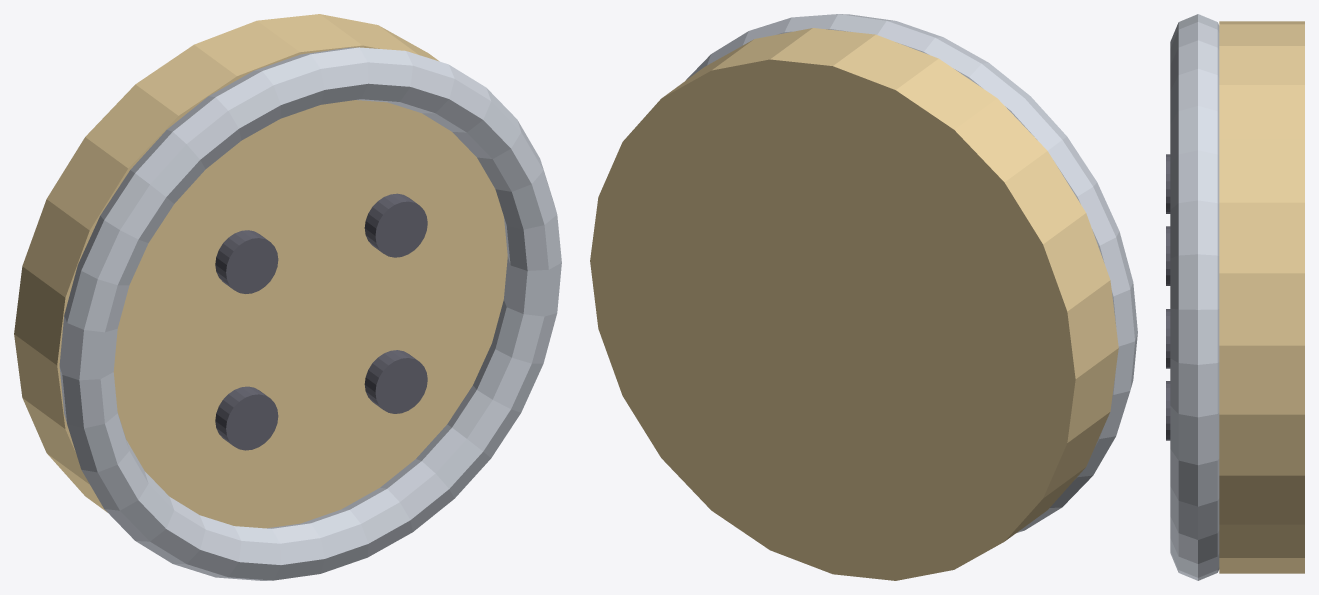
Rendered from ACC_Button_Gold.glb.
3 views of the same model, side by side, from view 1: azimuth 30°, elevation 25°; view 2: azimuth 150°, elevation 25°; view 3: azimuth 270°, elevation 25° (orthographic).
Parts seen in each view (by area): view 1: ACC_Button_Gold_1, ACC_Button_Gold_2, ACC_Button_Gold_6, ACC_Button_Gold_3, ACC_Button_Gold_4, ACC_Button_Gold_5; view 2: ACC_Button_Gold_1, ACC_Button_Gold_2; view 3: ACC_Button_Gold_1, ACC_Button_Gold_2, ACC_Button_Gold_3, ACC_Button_Gold_4, ACC_Button_Gold_5, ACC_Button_Gold_6.
Part boxes in pixels (x1,y1,x2,y2): ACC_Button_Gold_1: (14, 14, 507, 528); ACC_Button_Gold_2: (59, 47, 561, 580); ACC_Button_Gold_6: (364, 193, 427, 257); ACC_Button_Gold_3: (215, 386, 278, 450); ACC_Button_Gold_4: (215, 230, 278, 293); ACC_Button_Gold_5: (364, 350, 427, 413); ACC_Button_Gold_1: (590, 28, 1118, 580); ACC_Button_Gold_2: (685, 14, 1137, 532); ACC_Button_Gold_1: (1219, 21, 1304, 573); ACC_Button_Gold_2: (1170, 14, 1219, 580); ACC_Button_Gold_3: (1166, 309, 1170, 368); ACC_Button_Gold_4: (1166, 154, 1170, 213); ACC_Button_Gold_5: (1166, 381, 1170, 440); ACC_Button_Gold_6: (1166, 226, 1170, 285).
Size of the model in its own units: 0.0266 by 0.0266 by 0.0065.
